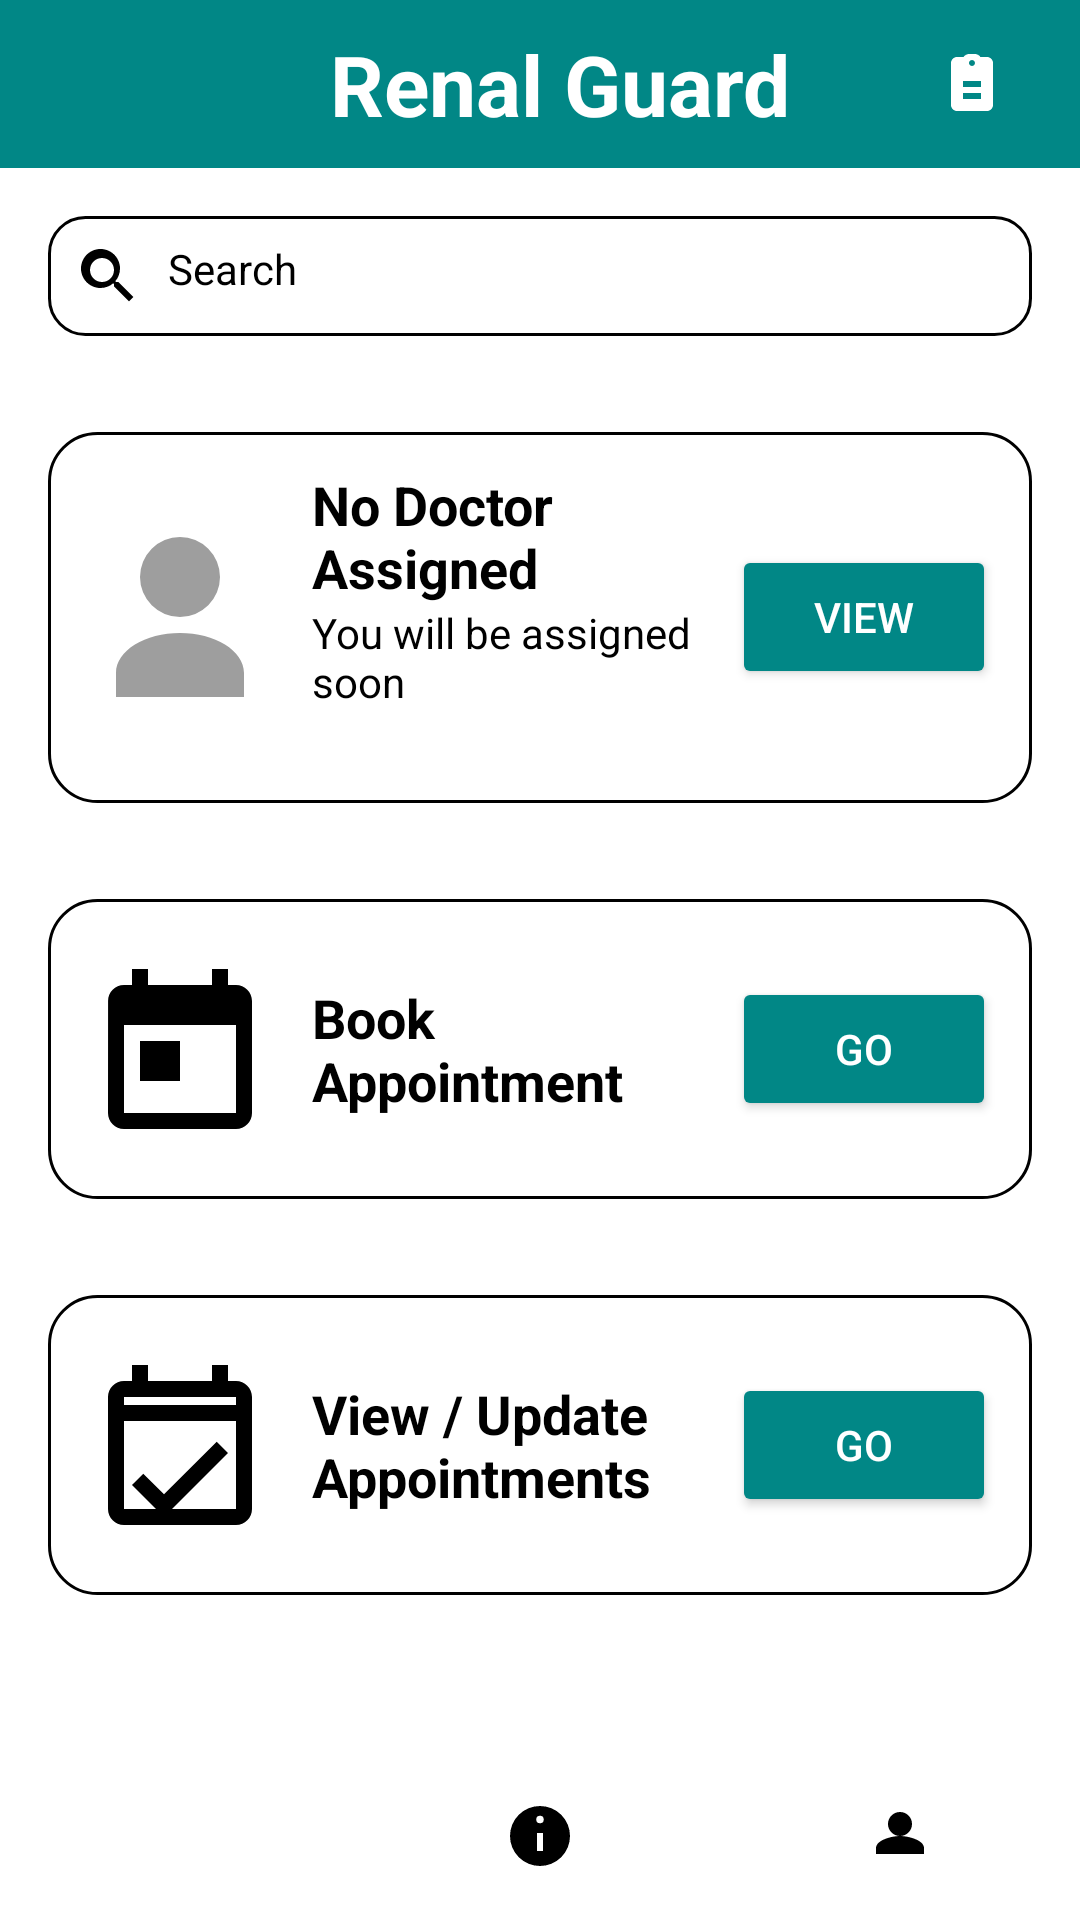

Where to tap for icons on this 1080 x 1920 app screen, as (x=x, y=y):
info: (x=540, y=1836)
profile: (x=900, y=1833)
